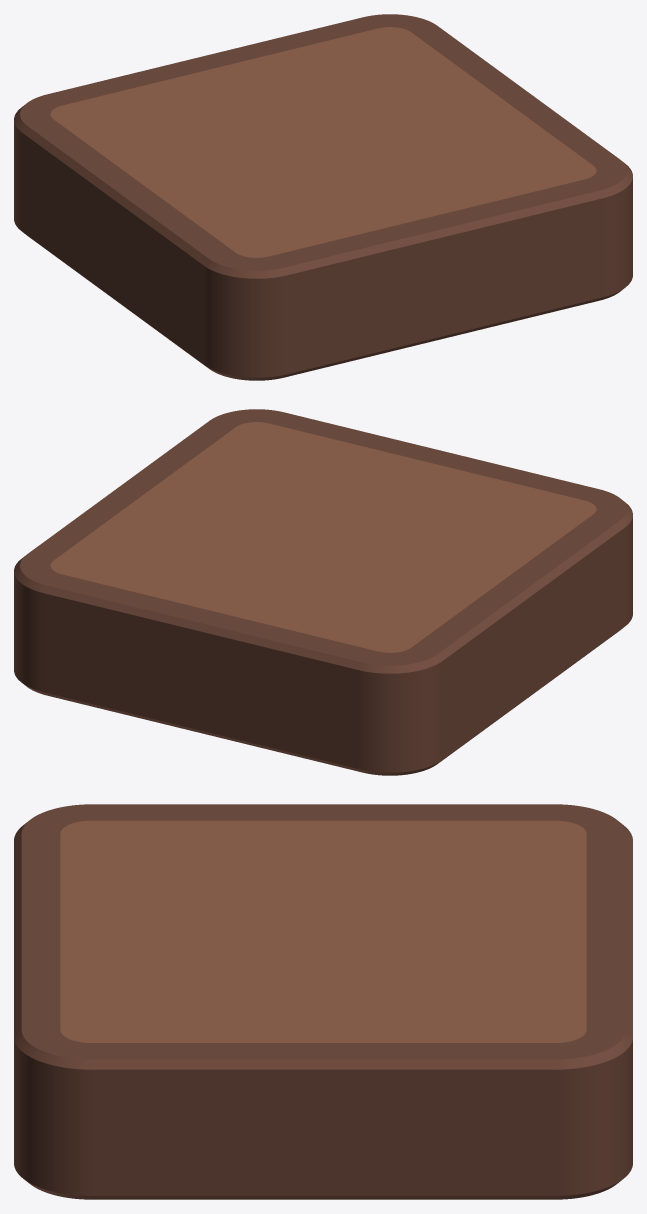
File: dirt_tile.glb
3 renders of one model, top to bottom at view 1: azimuth 30°, elevation 25°; view 2: azimuth 150°, elevation 25°; view 3: azimuth 270°, elevation 25°, orthographic. The views are drawn at different scales.
Parts seen in each view (by area): view 1: dirt_tile; view 2: dirt_tile; view 3: dirt_tile.
Boxes of the visible parts, x1,y1,x2,y2 form: dirt_tile: [14, 14, 632, 380]; dirt_tile: [14, 409, 632, 775]; dirt_tile: [14, 804, 632, 1199].
Bounding box in the file's own units: 16 × 4 × 16.
